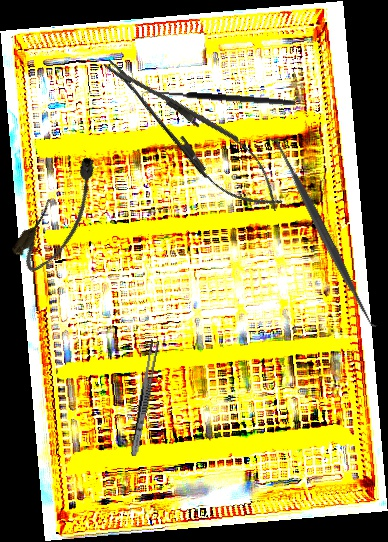Cannula: (7, 150, 116, 280)
Dressing Forceps: (128, 338, 161, 458)
Hook Surgical: (141, 88, 296, 114)
Needle Holder: (88, 39, 297, 227)
Spatula Surgical: (262, 129, 383, 335)
